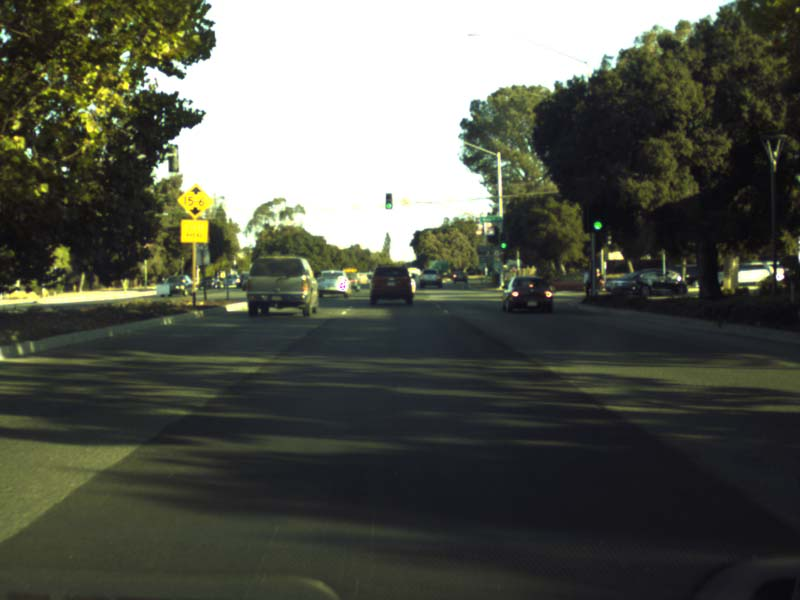Green: (592, 206, 603, 230), (499, 233, 507, 249), (384, 192, 391, 208)
